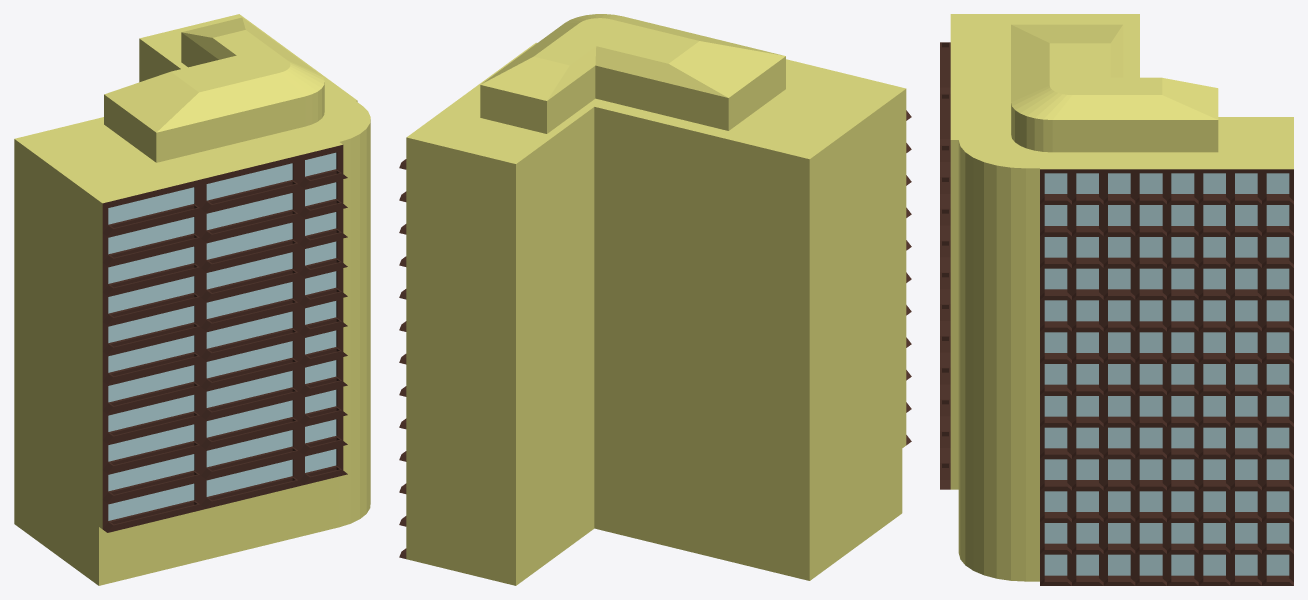
Rendered from Big Boi Yellow.fbx.
3 renders of one model, left to right at view 1: azimuth 30°, elevation 25°; view 2: azimuth 150°, elevation 25°; view 3: azimuth 270°, elevation 25°, orthographic. The views are drawn at different scales.
Parts seen in each view (by area): view 1: Cube.003; view 2: Cube.003; view 3: Cube.003.
Boxes of the visible parts, x1,y1,x2,y2 form: Cube.003: [14, 14, 370, 585]; Cube.003: [399, 14, 911, 585]; Cube.003: [940, 14, 1293, 585].
Bounding box in the file's own units: 6221 × 8379 × 5856.
